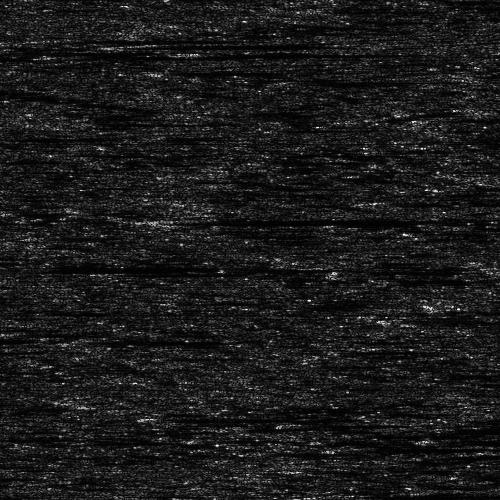rock: (113, 214, 228, 225), (0, 33, 104, 42), (265, 3, 348, 12), (102, 41, 185, 48), (334, 443, 365, 452), (416, 436, 447, 443), (140, 414, 181, 419), (281, 420, 322, 425), (183, 50, 224, 55), (432, 183, 463, 188), (145, 69, 176, 72)
shadow: (0, 259, 352, 274), (0, 39, 293, 56), (171, 214, 500, 225), (0, 50, 217, 61), (52, 33, 233, 42), (350, 443, 500, 452), (144, 41, 332, 48), (204, 50, 397, 55), (161, 414, 342, 419), (307, 3, 407, 12), (302, 420, 446, 425), (432, 436, 500, 443), (161, 69, 255, 72), (448, 183, 500, 188)
